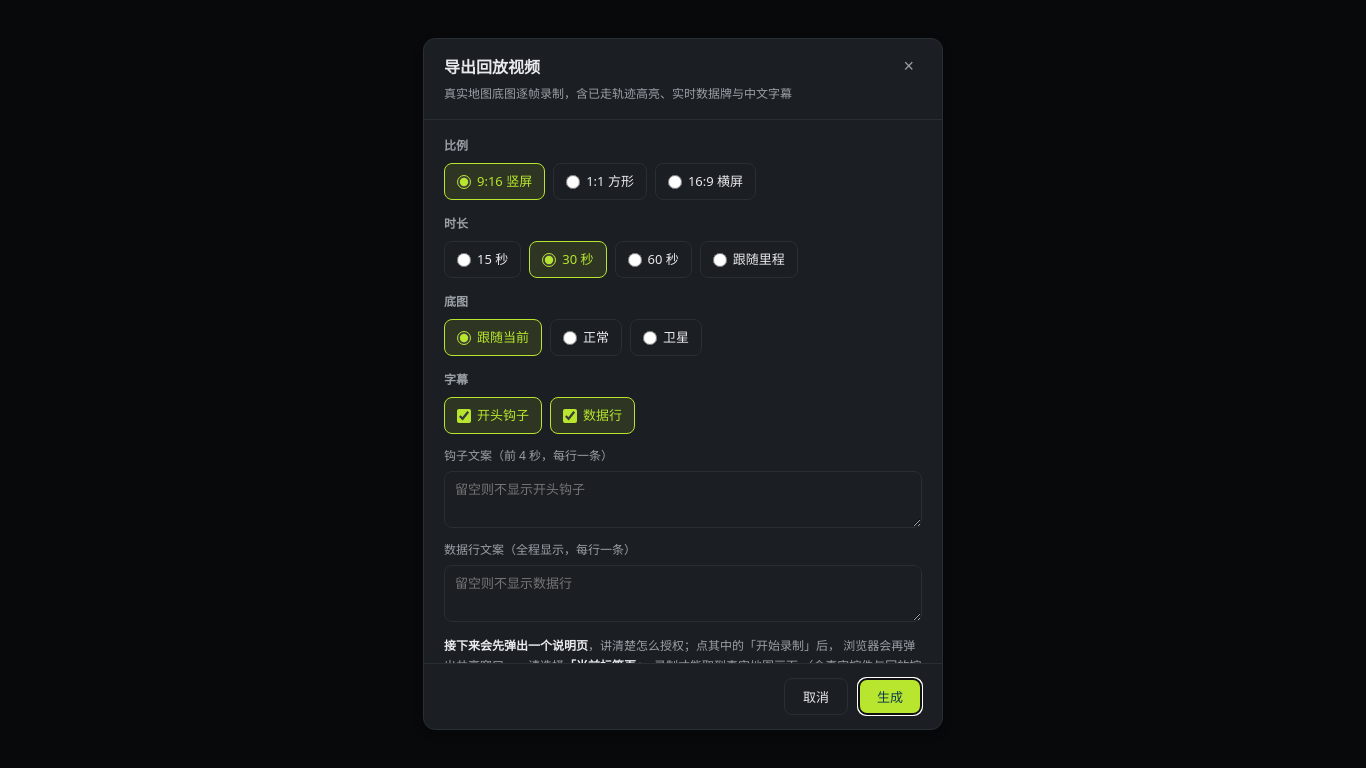
Test: 导出视频选项面板 › 取消勾选字幕时隐藏对应输入框
expect the text box labelled "钩子文案（前 4 秒，每行一条）" is shown: met, box [444,471,922,528]
expect the text box labelled "数据行文案（全程显示，每行一条）" is shown: met, box [444,565,922,622]
Click the checkbox labelled "开头钩子". click: [464, 416]
box: [457,408,471,422]
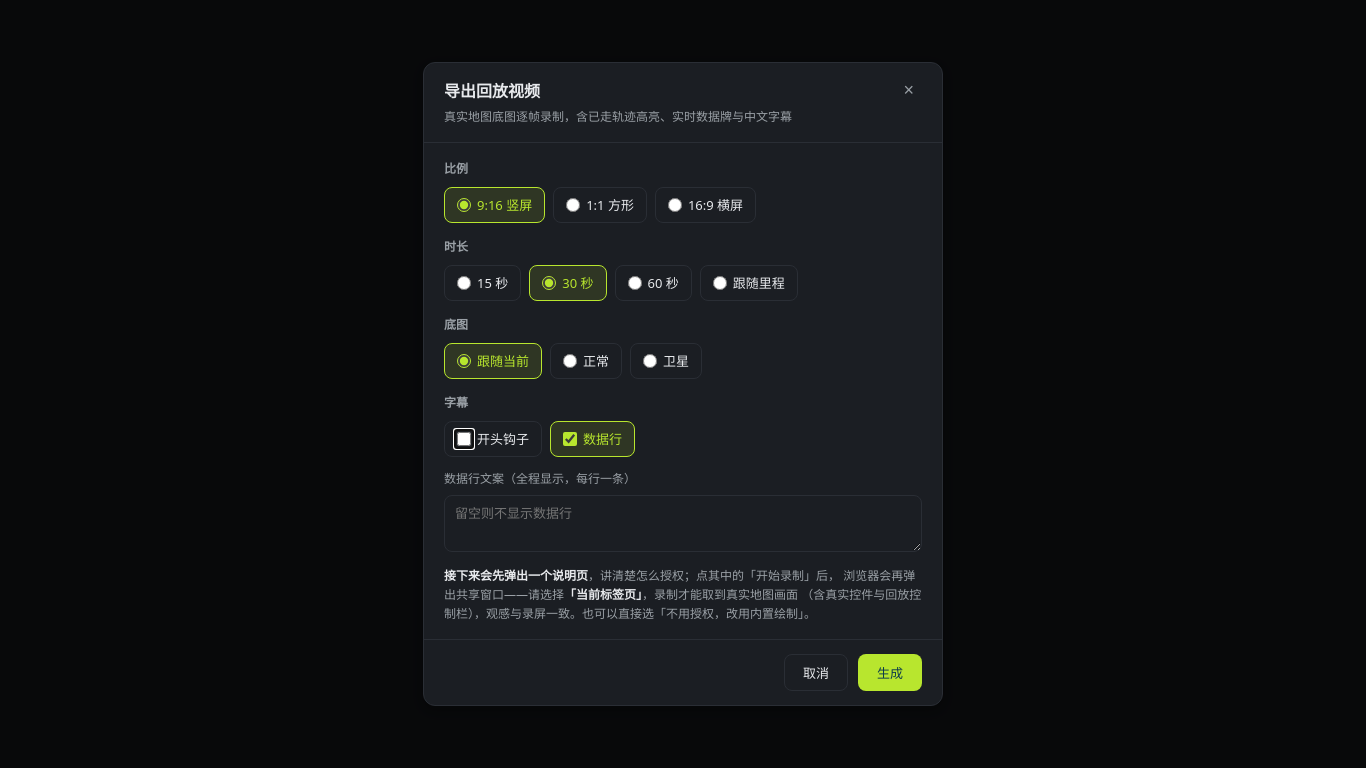
Click the checkbox labelled "数据行". click: [570, 439]
box: [563,432,577,446]
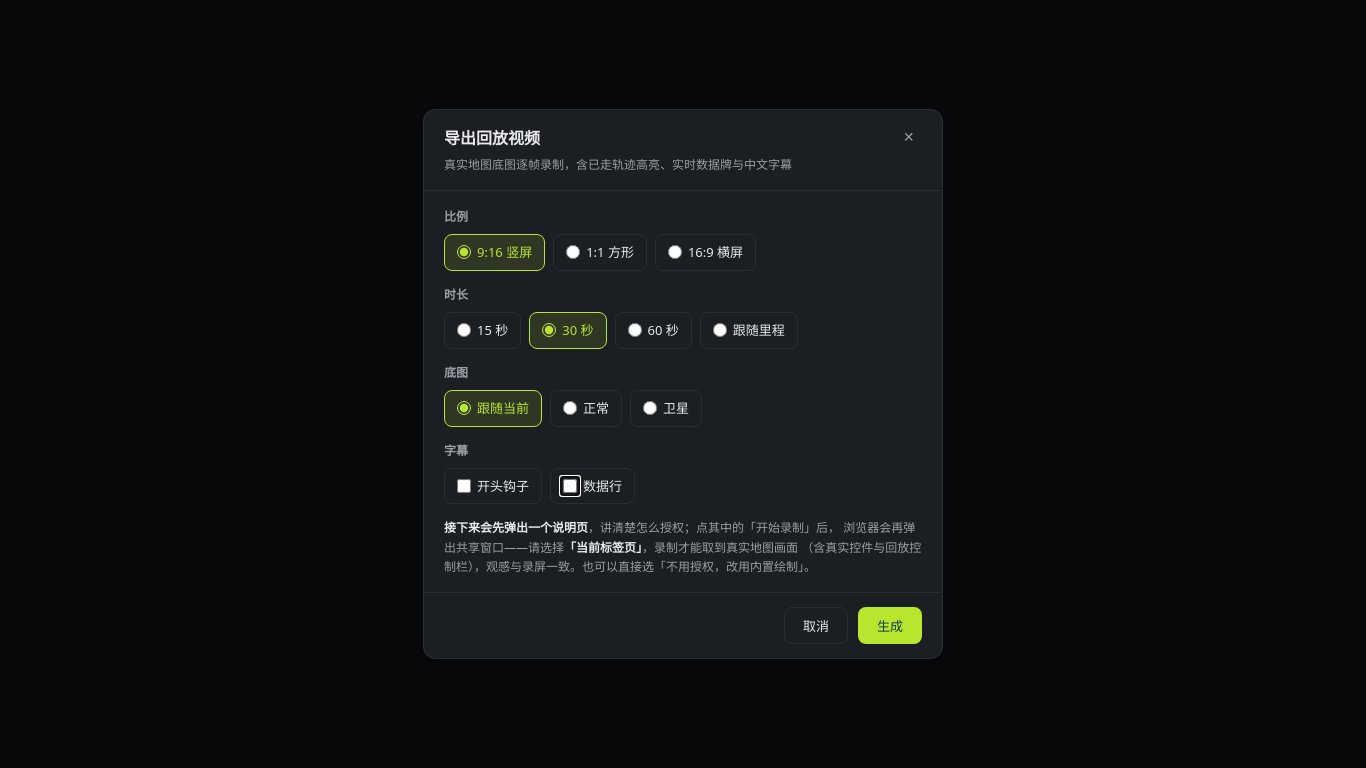
expect the label labelled "钩子文案" is not shown: met
expect the label labelled "数据行文案" is gone: met
